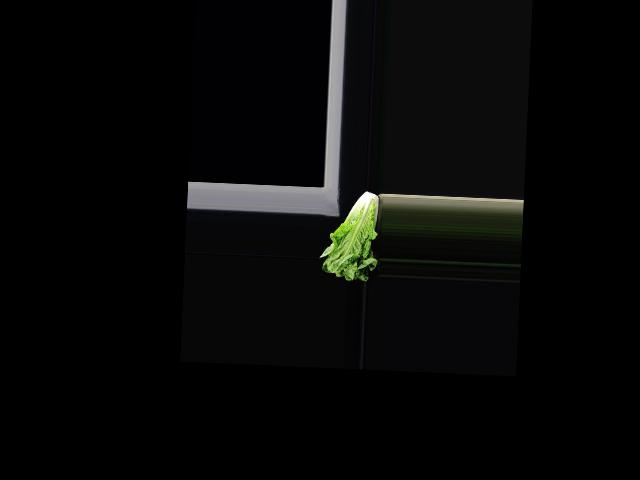lettuce: (319, 188, 381, 283)
